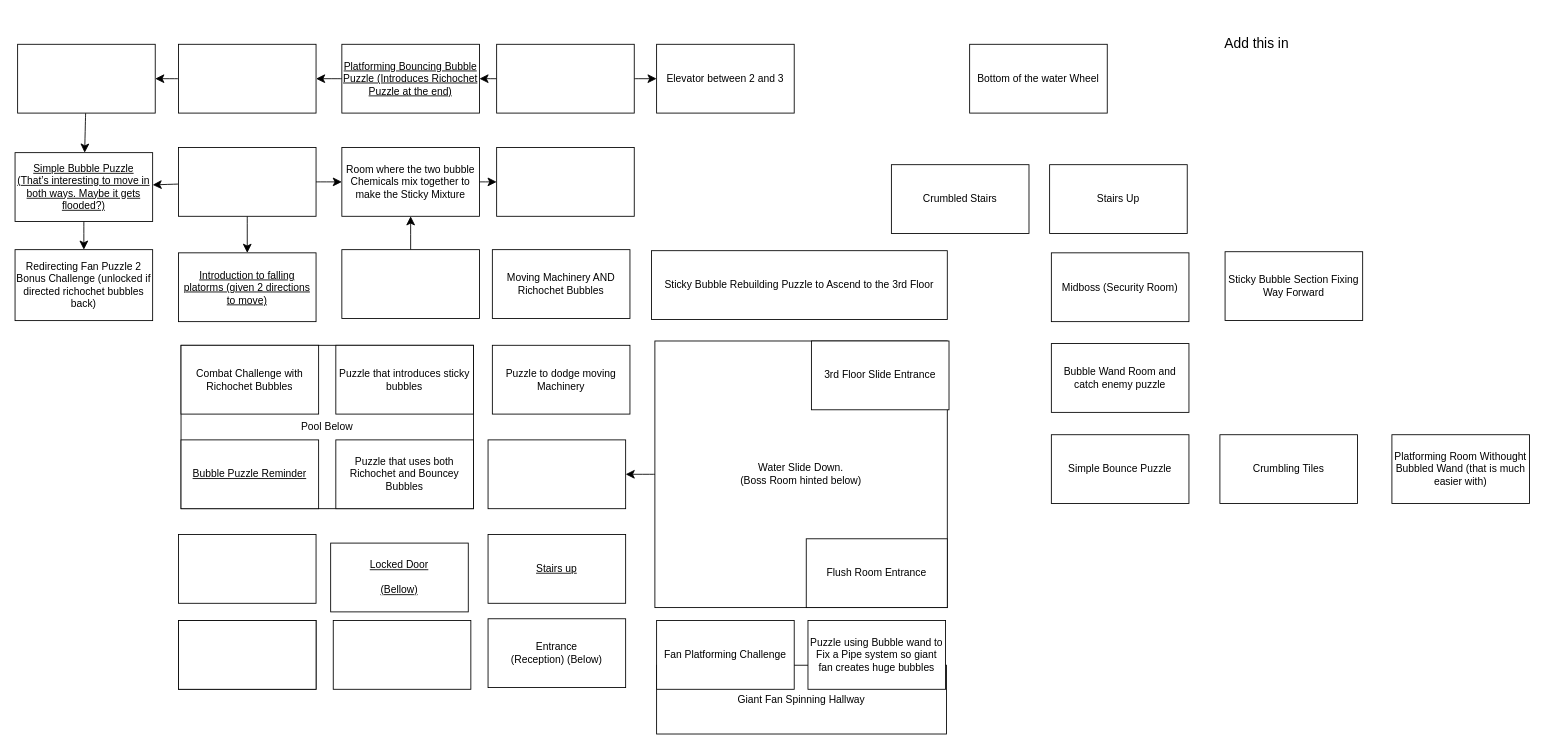
This 1545x749 diagram has some shape labels left out. Each missing label, with the centre of its shape:
Elevator Between Floor 1 and 2: [565,78]
Pipe Puzzle with Richochet Blob Sollution: [86,78]
Puzzle that uses both: [556,474]
Puzzle to Divert previous rooms sticky bubble mixture below: [565,181]
Puzzle to Show how to make sticky bubbles: [410,283]
Room with Richochet Mixture to send to other rooms (Geysers up to room above?): [247,181]
Simple Richochet Puzzle Room: [247,78]
